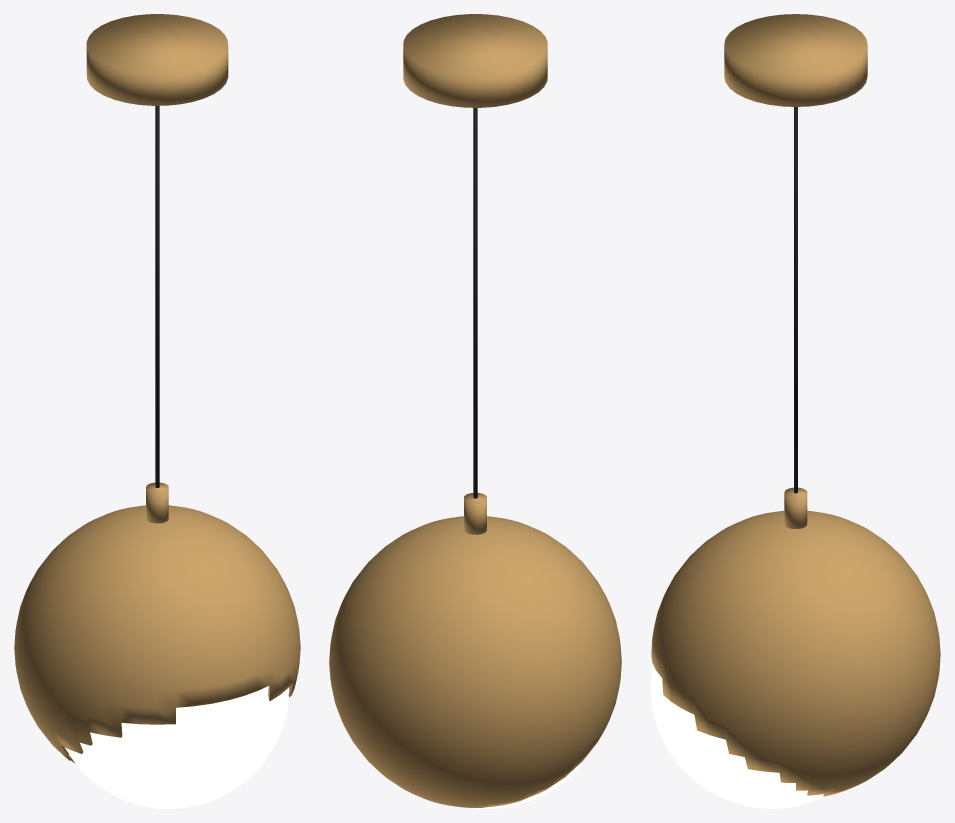
3 views of the same model, side by side, from view 1: azimuth 30°, elevation 25°; view 2: azimuth 150°, elevation 25°; view 3: azimuth 270°, elevation 25° (orthographic). The views are drawn at different scales.
Parts seen in each view (by area): view 1: void-sky-vg1; view 2: void-sky-vg1; view 3: void-sky-vg1.
Boxes of the visible parts, x1,y1,x2,y2 form: void-sky-vg1: (14,14,300,808); void-sky-vg1: (329,14,621,808); void-sky-vg1: (650,14,940,808).
Size of the model in its own units: 0.202 by 0.58 by 0.2026.
